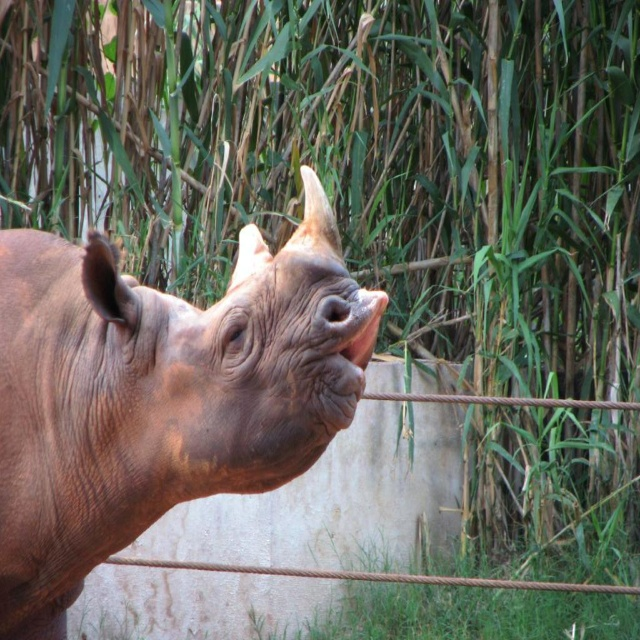Rhinoceros: (0, 157, 390, 639)
